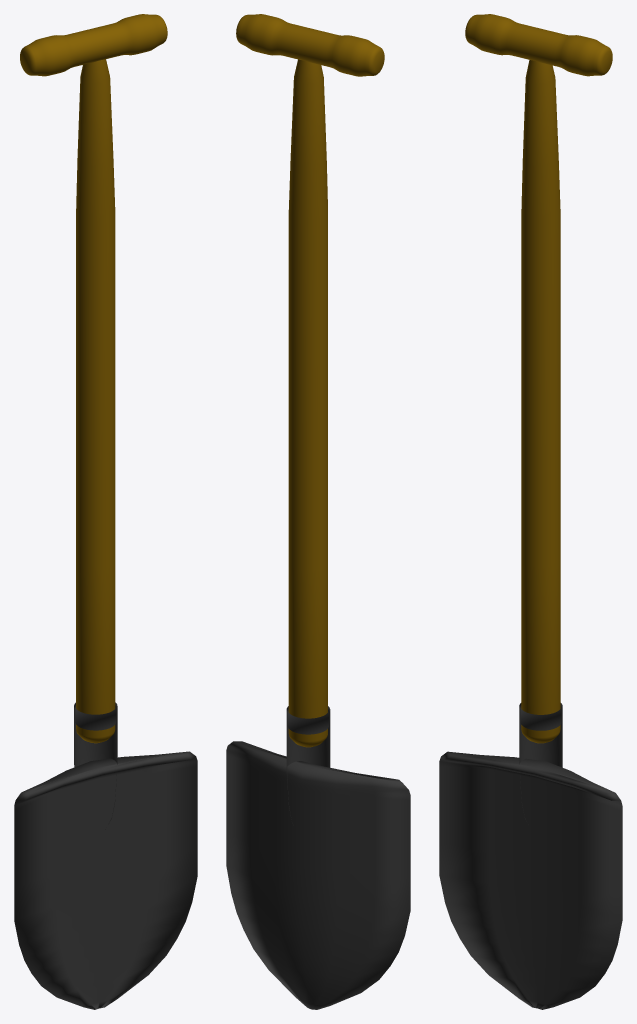
File: pala.fbx
The picture shows the model from 3 angles, left to right: view 1: azimuth 30°, elevation 25°; view 2: azimuth 150°, elevation 25°; view 3: azimuth 330°, elevation 25°; orthographic projection.
Parts seen in each view (by area): view 1: spaten_Fläche, griff_Kreis.001; view 2: spaten_Fläche, griff_Kreis.001; view 3: spaten_Fläche, griff_Kreis.001.
Part boxes in pixels (x1=…): spaten_Fläche: x1=14, y1=702, x2=197, y2=1009; griff_Kreis.001: x1=20, y1=14, x2=167, y2=743; spaten_Fläche: x1=226, y1=706, x2=410, y2=1009; griff_Kreis.001: x1=236, y1=14, x2=384, y2=747; spaten_Fläche: x1=439, y1=703, x2=622, y2=1009; griff_Kreis.001: x1=465, y1=14, x2=612, y2=743.
Size of the model in its own units: 2.83 by 14.42 by 0.6313.
